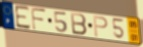5: (53, 11, 69, 34), (111, 17, 126, 41)
B: (69, 12, 88, 37)
E: (14, 4, 32, 31)
F: (30, 6, 48, 32)
P: (93, 15, 110, 38)
